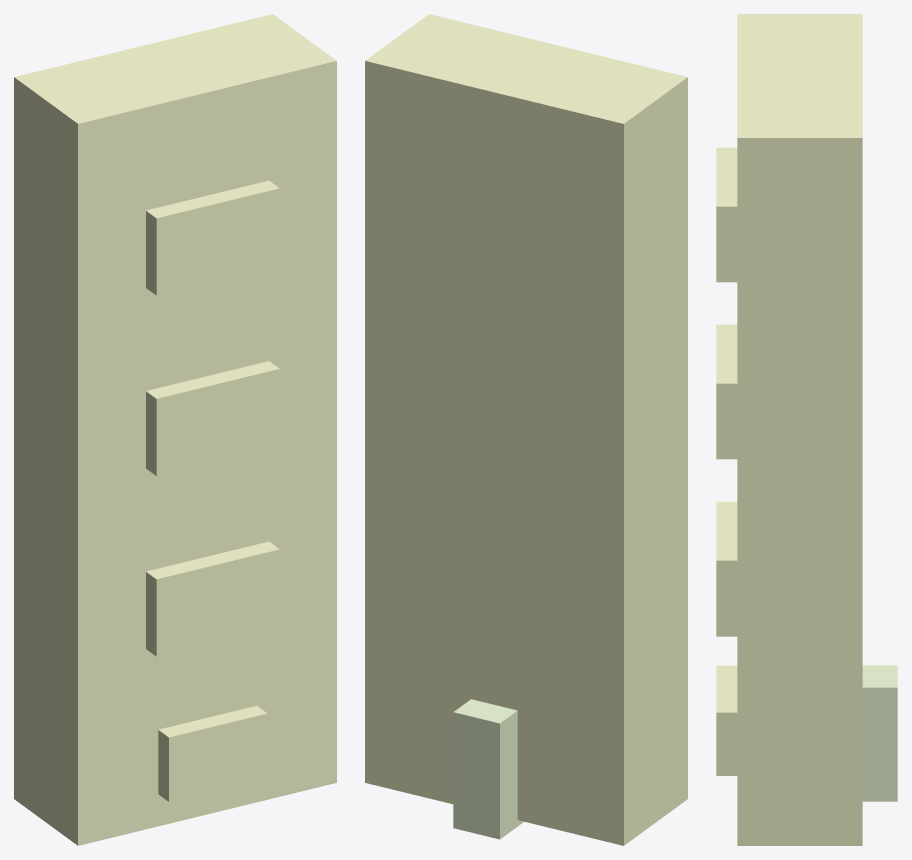
The model's file is signal_transit_priority_bar_4_aspect.glb.
The picture shows the model from 3 angles, left to right: view 1: azimuth 30°, elevation 25°; view 2: azimuth 150°, elevation 25°; view 3: azimuth 270°, elevation 25°; orthographic projection.
Visible parts, largest first — view 1: housing, display_bar_go, display_bar_stop, display_bar_hold, display_bar_call; view 2: housing, bracket; view 3: housing, bracket, display_bar_go, display_bar_stop, display_bar_hold, display_bar_call.
Boxes of the visible parts, box(x1,y1,x2,y2) form: housing: box(14, 14, 336, 845); display_bar_go: box(146, 541, 279, 656); display_bar_stop: box(146, 180, 279, 295); display_bar_hold: box(146, 361, 279, 476); display_bar_call: box(158, 705, 267, 801); housing: box(365, 14, 687, 845); bracket: box(453, 699, 523, 839); housing: box(737, 14, 862, 845); bracket: box(862, 665, 897, 801); display_bar_go: box(716, 501, 737, 636); display_bar_stop: box(716, 147, 737, 282); display_bar_hold: box(716, 324, 737, 459); display_bar_call: box(716, 665, 737, 775).
Size of the model in its own units: 0.42 by 1.13 by 0.26.
